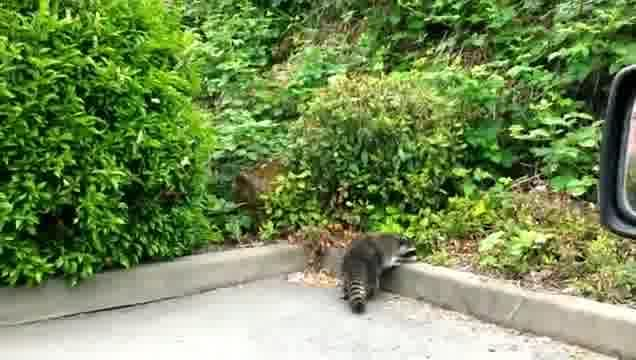raccoon: (334, 231, 422, 319)
